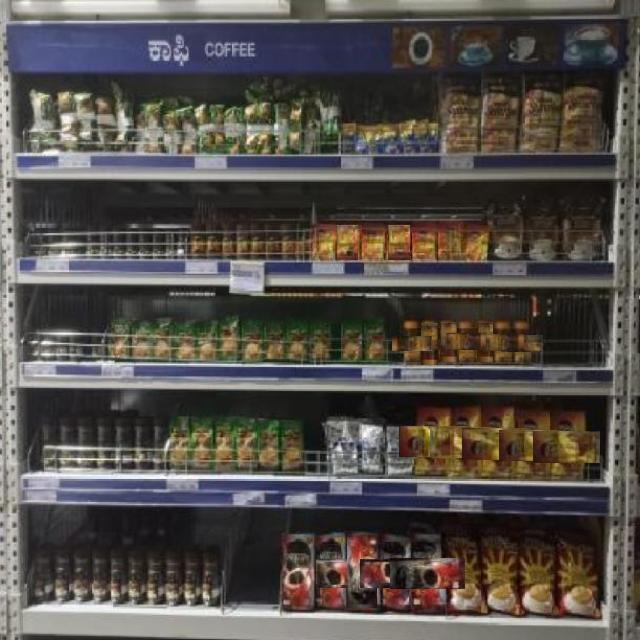Coffee: (391, 557, 465, 589), (285, 535, 316, 610), (347, 533, 377, 608), (463, 428, 533, 460), (294, 558, 367, 588), (429, 427, 499, 458), (499, 429, 566, 461), (534, 431, 600, 463), (399, 426, 466, 457), (359, 559, 429, 588), (439, 224, 462, 261), (413, 224, 436, 260), (464, 226, 488, 260), (387, 225, 410, 260), (362, 224, 384, 260), (420, 322, 438, 365), (501, 334, 543, 352), (337, 225, 358, 260), (439, 322, 457, 362), (483, 334, 524, 351), (313, 226, 334, 259), (392, 335, 432, 351), (477, 322, 493, 362), (446, 334, 486, 350)
